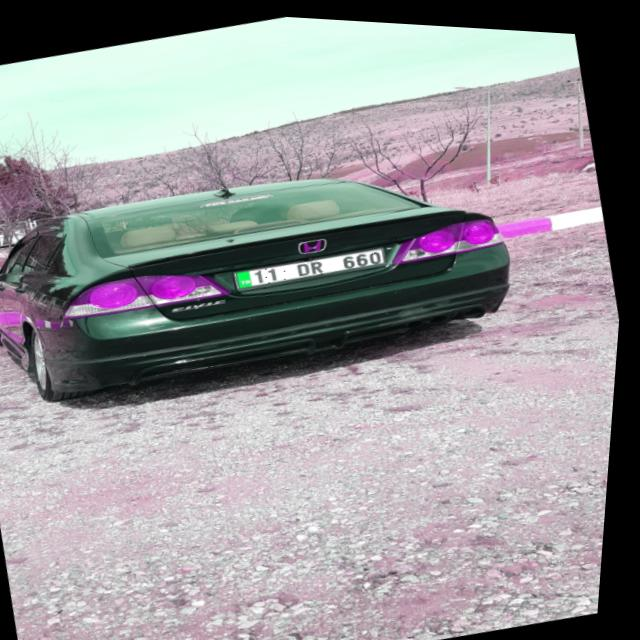plate: (236, 235, 390, 292)
